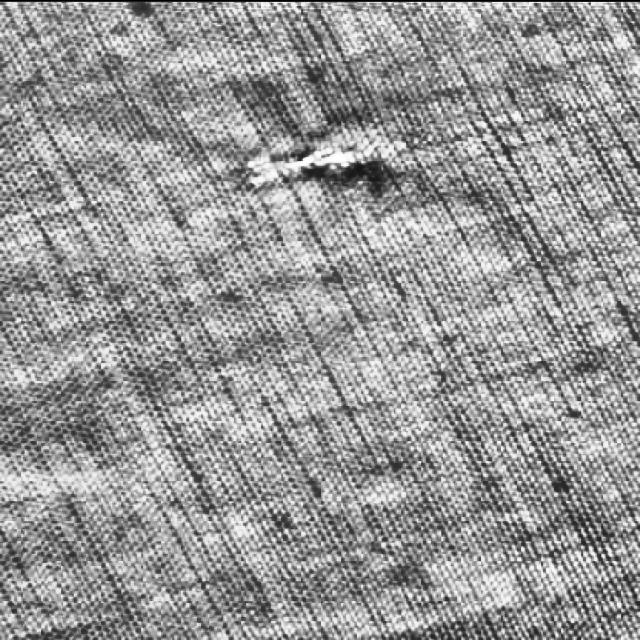hole: (216, 130, 388, 210)
